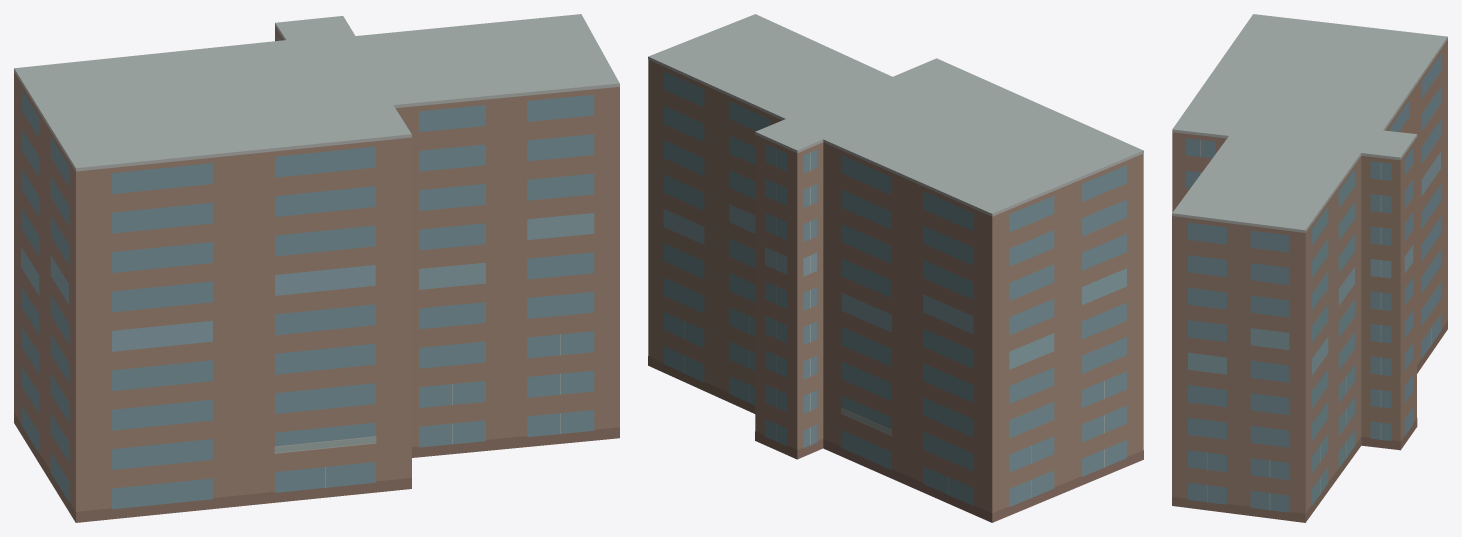
File: survey-upis-32855698.glb
3 views of the same model, side by side, from view 1: azimuth 30°, elevation 25°; view 2: azimuth 150°, elevation 25°; view 3: azimuth 270°, elevation 25° (orthographic). The views are drawn at different scales.
Parts seen in each view (by area): view 1: survey-upis-32855698.tmp; view 2: survey-upis-32855698.tmp; view 3: survey-upis-32855698.tmp.
Boxes of the visible parts, bbox=[...] form: survey-upis-32855698.tmp: bbox=[14, 14, 619, 522]; survey-upis-32855698.tmp: bbox=[648, 14, 1143, 522]; survey-upis-32855698.tmp: bbox=[1172, 14, 1447, 522].
Bounding box in the file's own units: 41.38 × 26.1 × 22.3.
